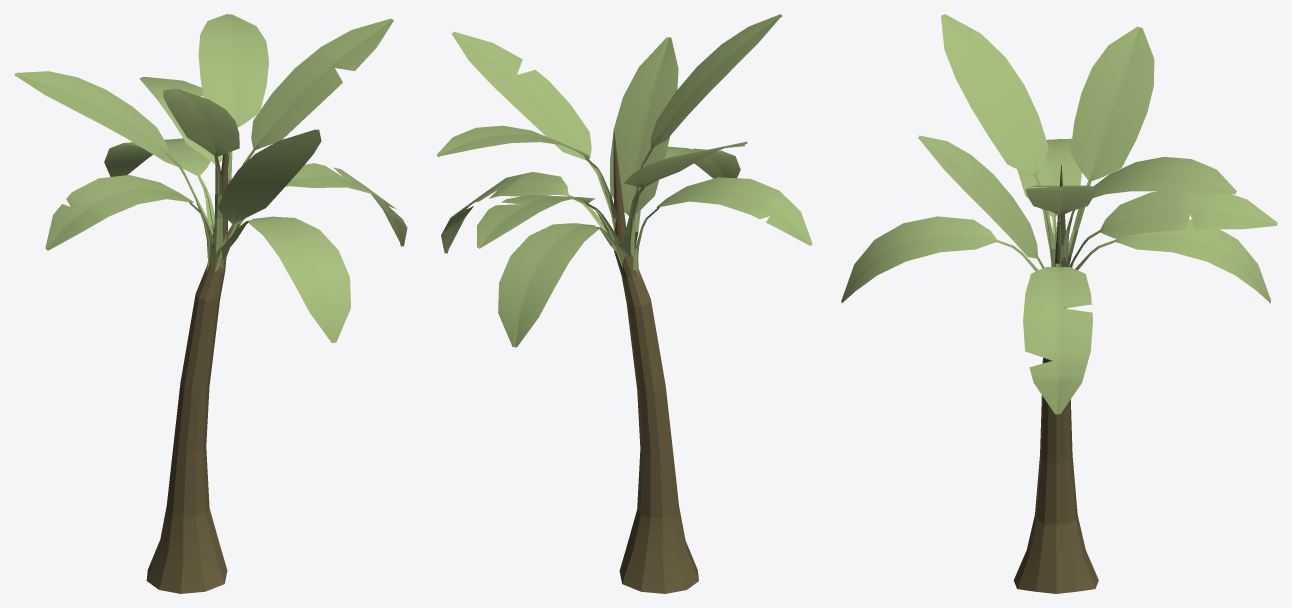
File: BananaTree.fbx
3 views of the same model, side by side, from view 1: azimuth 30°, elevation 25°; view 2: azimuth 150°, elevation 25°; view 3: azimuth 270°, elevation 25° (orthographic).
Parts seen in each view (by area): view 1: pPlane10; view 2: pPlane10; view 3: pPlane10.
Part boxes in pixels (x1,y1,x2,y2): pPlane10: [14, 14, 407, 593]; pPlane10: [436, 14, 812, 593]; pPlane10: [841, 14, 1277, 593].
Size of the model in its own units: 7.58 by 10.88 by 8.01.
